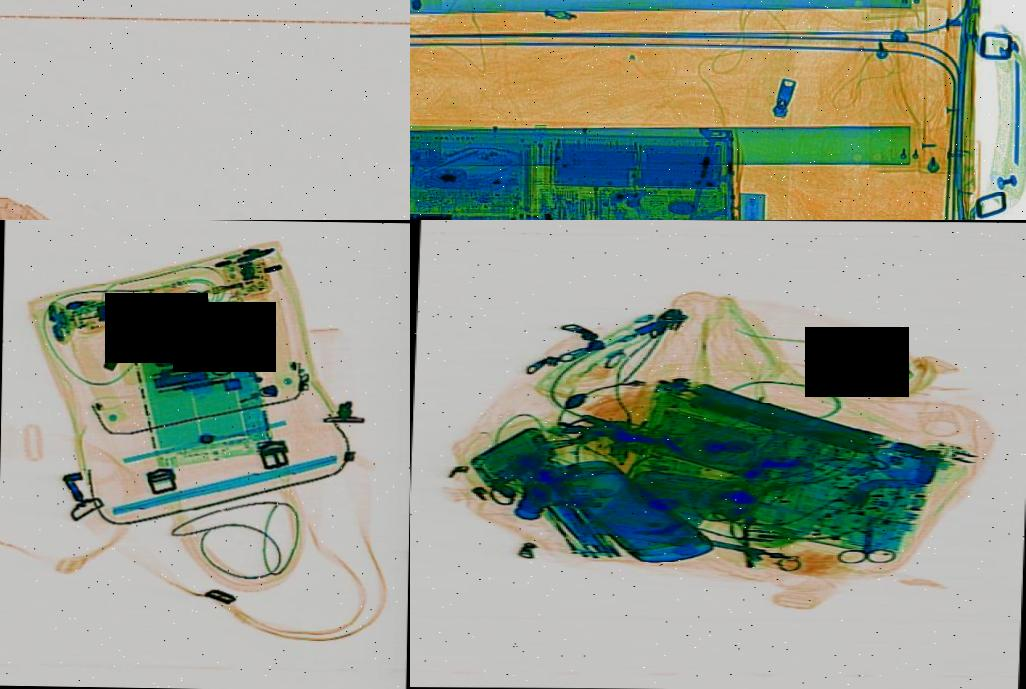Scissors: (151, 338, 239, 391), (838, 512, 904, 564)
